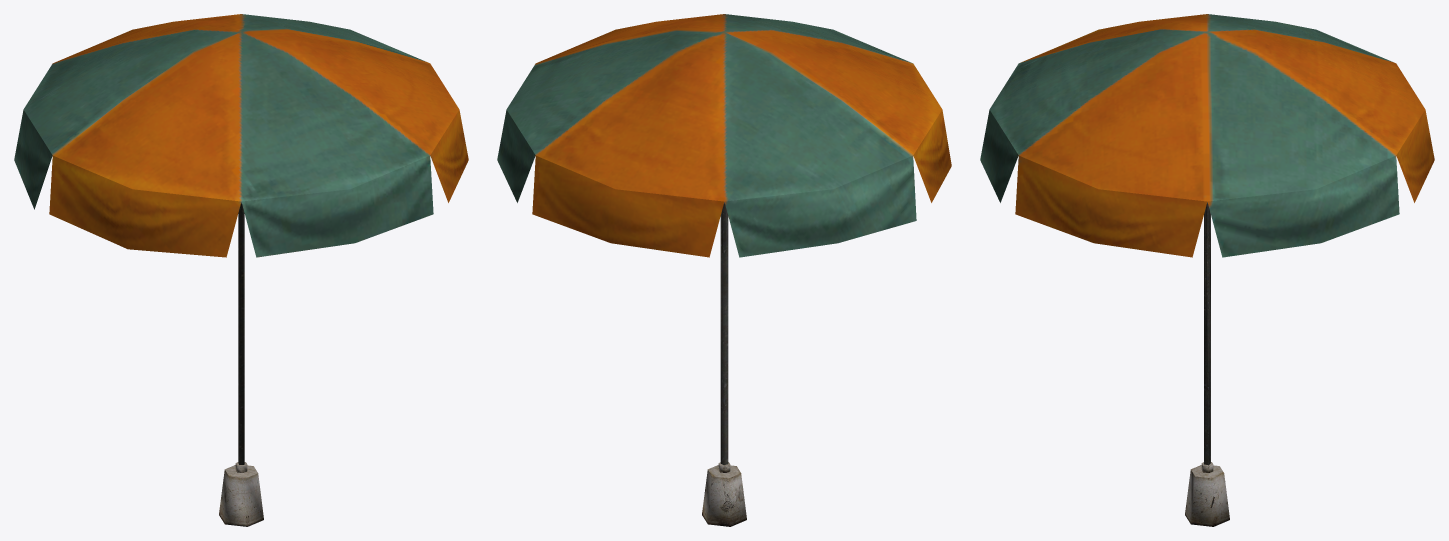
Rendered from Prop_Zys02.glb.
3 views of the same model, side by side, from view 1: azimuth 30°, elevation 25°; view 2: azimuth 150°, elevation 25°; view 3: azimuth 270°, elevation 25° (orthographic).
Parts seen in each view (by area): view 1: lijiang_dj012b; view 2: lijiang_dj012b; view 3: lijiang_dj012b.
Part boxes in pixels (x1,y1,x2,y2): lijiang_dj012b: (14,14,468,526); lijiang_dj012b: (497,14,951,526); lijiang_dj012b: (980,14,1434,526).
Bounding box in the file's own units: 5.21 × 6.09 × 5.13.
Materials: 1 (1 with a texture image).
